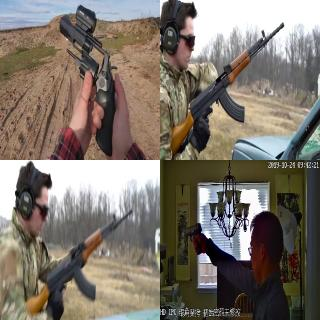gun: (160, 15, 298, 145), (50, 0, 134, 160), (18, 201, 138, 307), (183, 221, 209, 258)
